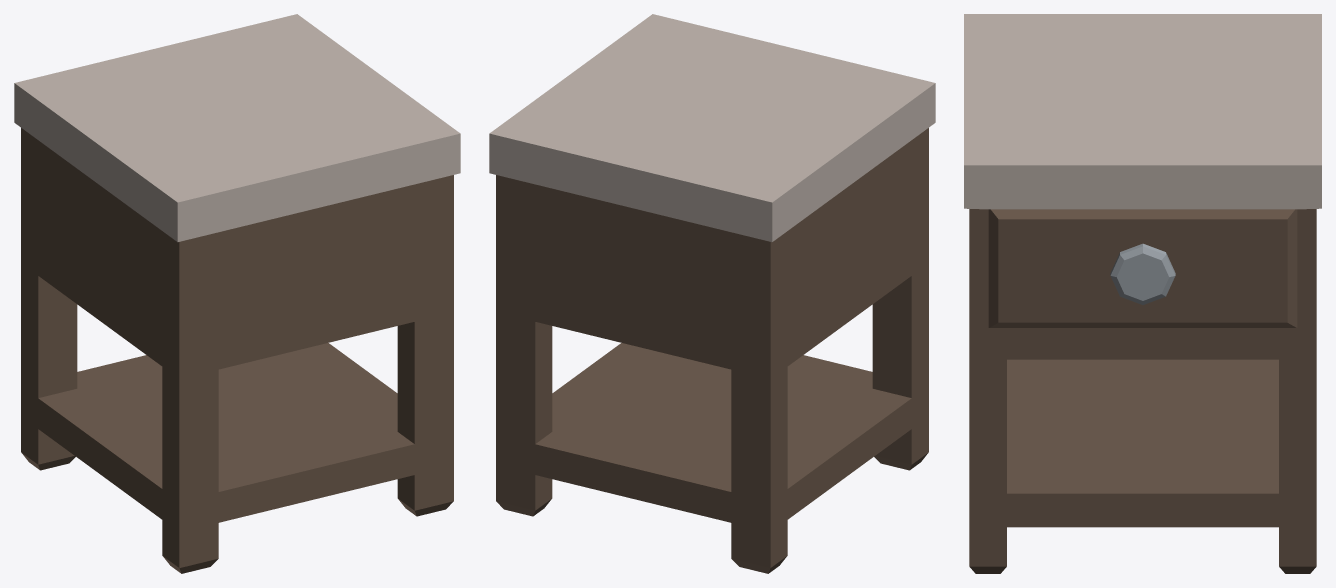
File: EndTable.fbx
The picture shows the model from 3 angles, left to right: view 1: azimuth 30°, elevation 25°; view 2: azimuth 150°, elevation 25°; view 3: azimuth 270°, elevation 25°; orthographic projection. The views are drawn at different scales.
Parts seen in each view (by area): view 1: End_Table_v2; view 2: End_Table_v2; view 3: End_Table_v2.
Part boxes in pixels (bbox=[...]): End_Table_v2: bbox=[14, 14, 460, 573]; End_Table_v2: bbox=[489, 14, 935, 573]; End_Table_v2: bbox=[964, 14, 1321, 573].
Bounding box in the file's own units: 27.05 × 32.91 × 25.8.
